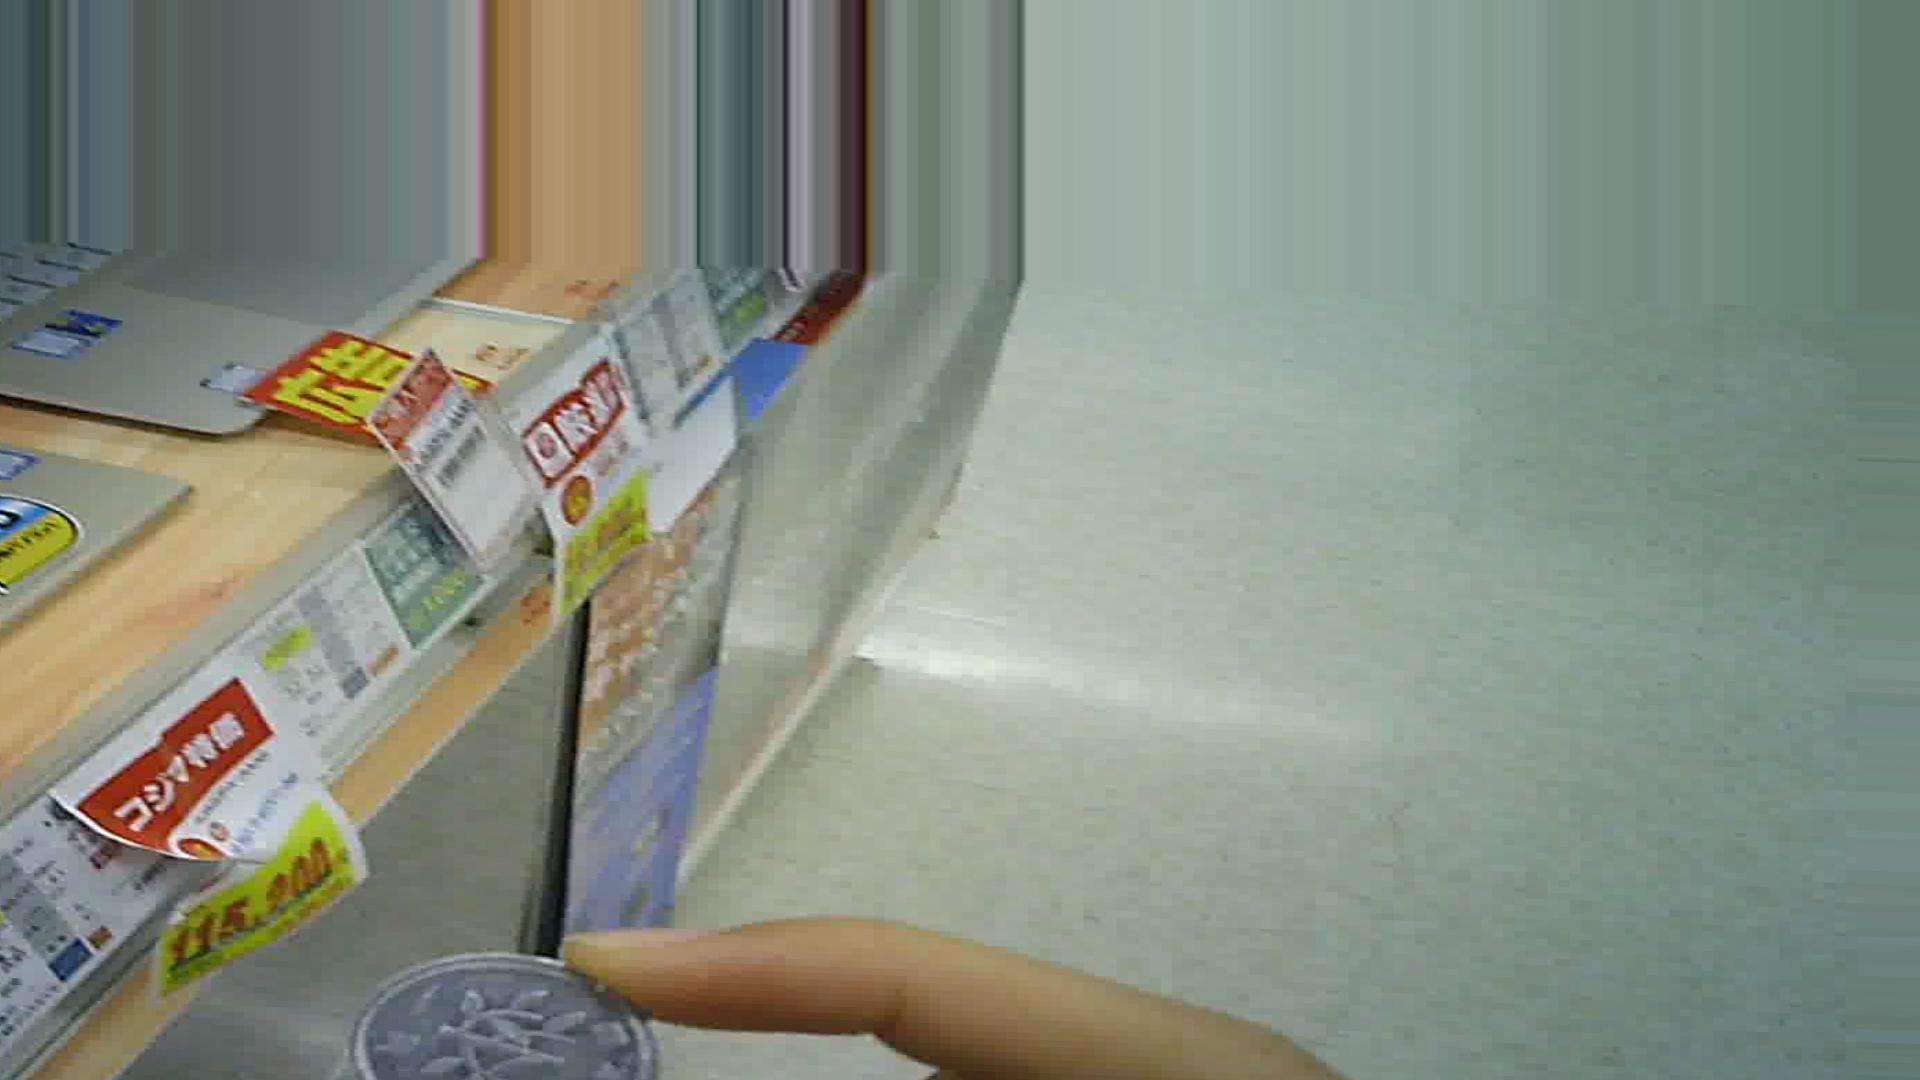1 Yen: (338, 939, 666, 1073)
